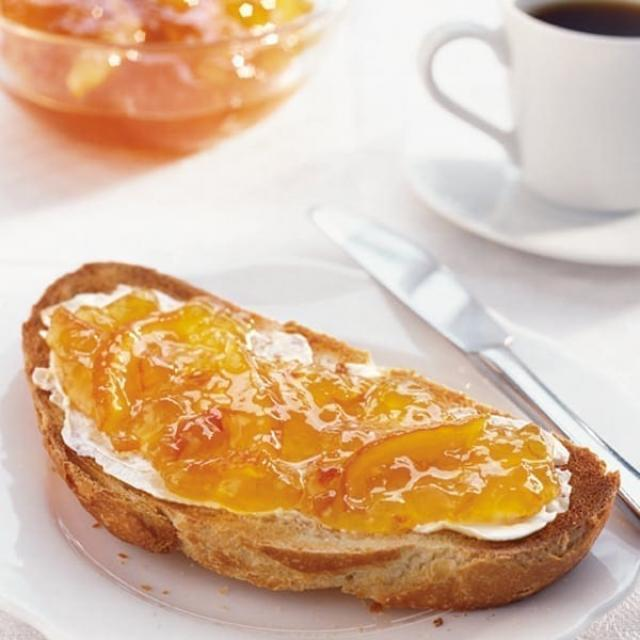Spread: (42, 289, 576, 546)
